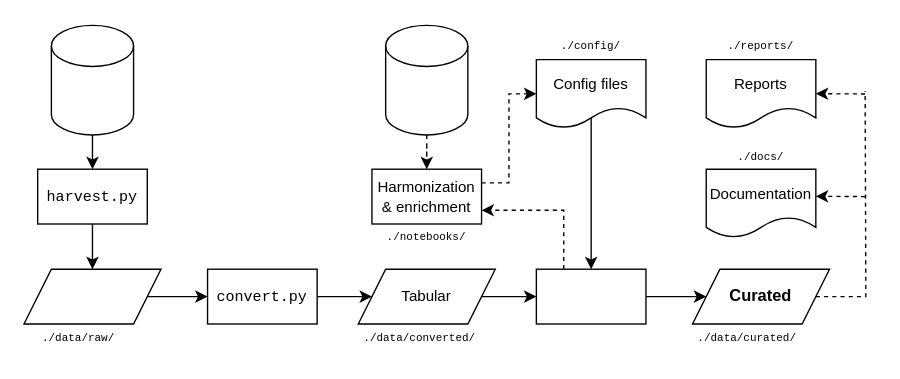
Image size: 900x379. Some labels were removed from this diagram. The shapes that lost their labels are listed below. From the top down, each one's box as (x1, y1, x2, y2) in pixels, then its label:
(50, 24, 134, 135): OAI-PMH repo
(384, 24, 468, 135): External sources
(23, 268, 161, 324): MARC21XML
(535, 268, 646, 324): curate.py
